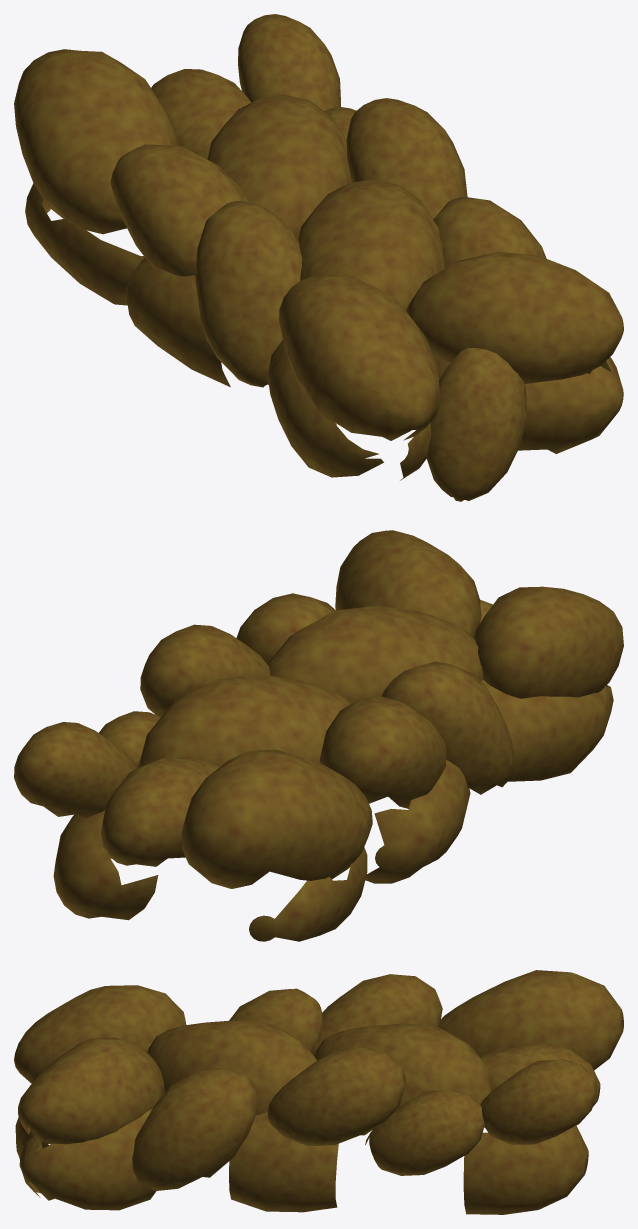
The model's file is MC_DecimatedPotato.fbx.
3 views of the same model, one above another, from view 1: azimuth 30°, elevation 25°; view 2: azimuth 150°, elevation 25°; view 3: azimuth 270°, elevation 25° (orthographic). The views are drawn at different scales.
Visible parts, largest first — view 1: Sphere.002; view 2: Sphere.002; view 3: Sphere.002.
Boxes of the visible parts, <box> form: Sphere.002: <box>14,14,623,501</box>; Sphere.002: <box>14,530,623,941</box>; Sphere.002: <box>14,970,623,1214</box>.
Bounding box in the file's own units: 210 × 138 × 448.
